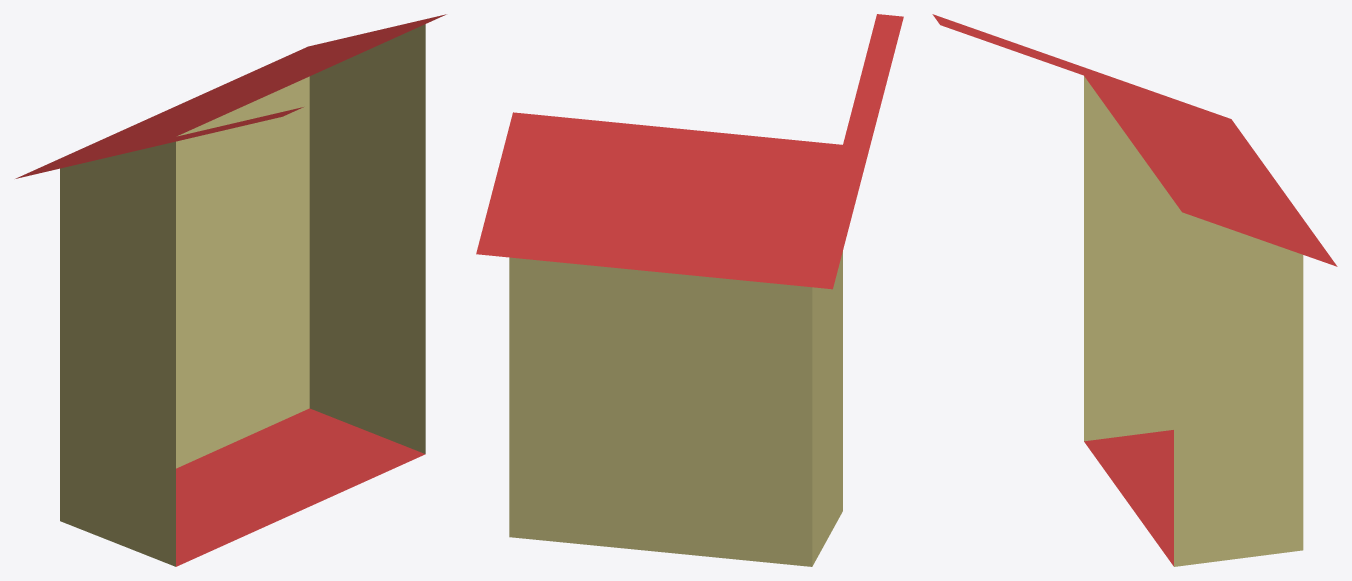
3 renders of one model, left to right at view 1: azimuth 30°, elevation 25°; view 2: azimuth 150°, elevation 25°; view 3: azimuth 270°, elevation 25°, orthographic. The views are drawn at different scales.
Bounding box in the file's own units: 7.21 × 7.37 × 8.71.
